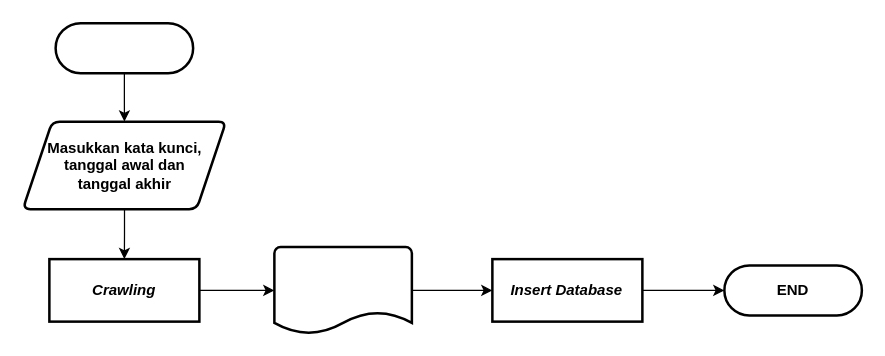
Some shapes in this 885 by 356 pixel diagram are drawn without their labels. Here are the shapes that lost their labels. From the top down, the centre of each, then its label:
the point at 124,47: START
the point at 342,289: Dokumen Excel
